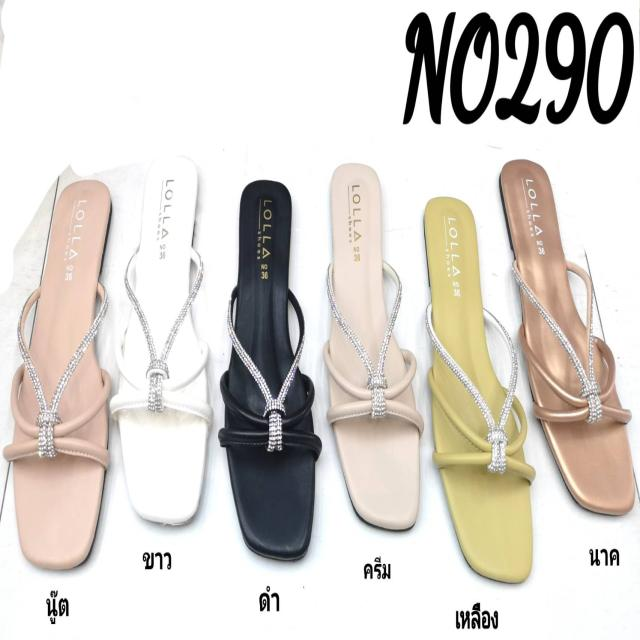black: (226, 183, 316, 561)
cream: (325, 162, 421, 537)
nak: (498, 156, 637, 524)
nood: (14, 175, 109, 567)
white: (121, 157, 212, 522)
yellow: (422, 198, 534, 583)
